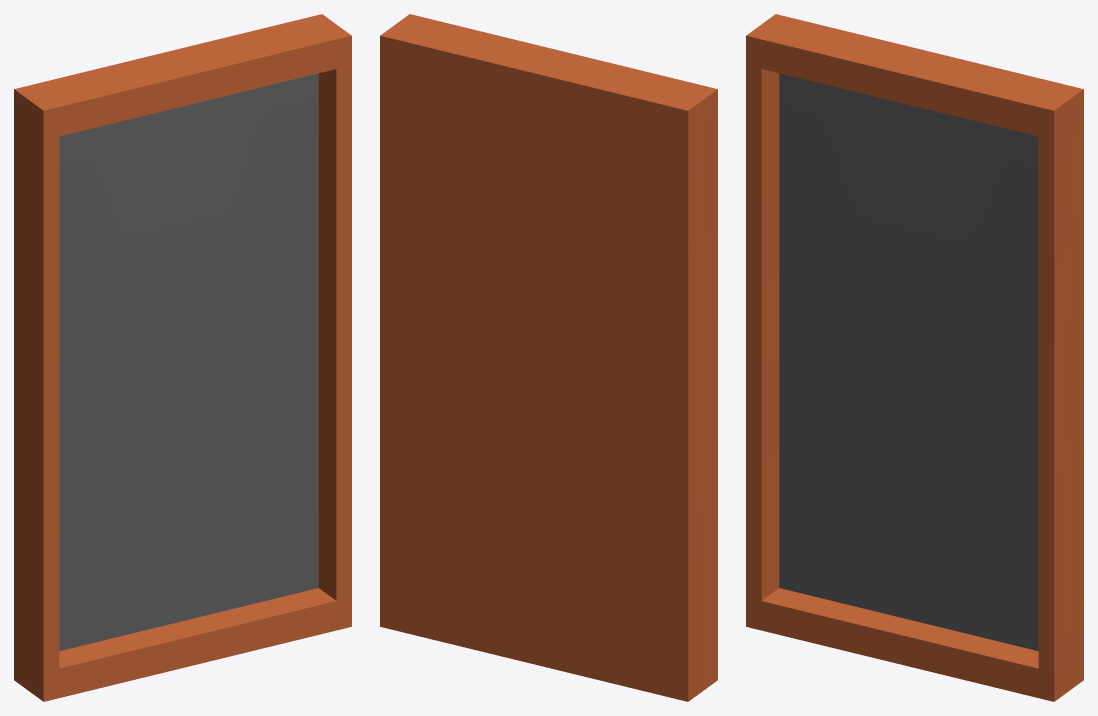
Rendered from SM_Order.fbx.
3 renders of one model, left to right at view 1: azimuth 30°, elevation 25°; view 2: azimuth 150°, elevation 25°; view 3: azimuth 330°, elevation 25°, orthographic.
Visible parts, largest first — view 1: SM_Order; view 2: SM_Order; view 3: SM_Order.
Part boxes in pixels (box(x1,y1,x2,y2)): SM_Order: box(14, 14, 351, 701); SM_Order: box(380, 14, 717, 701); SM_Order: box(746, 14, 1083, 701).
Size of the model in its own units: 60 by 110 by 10.
